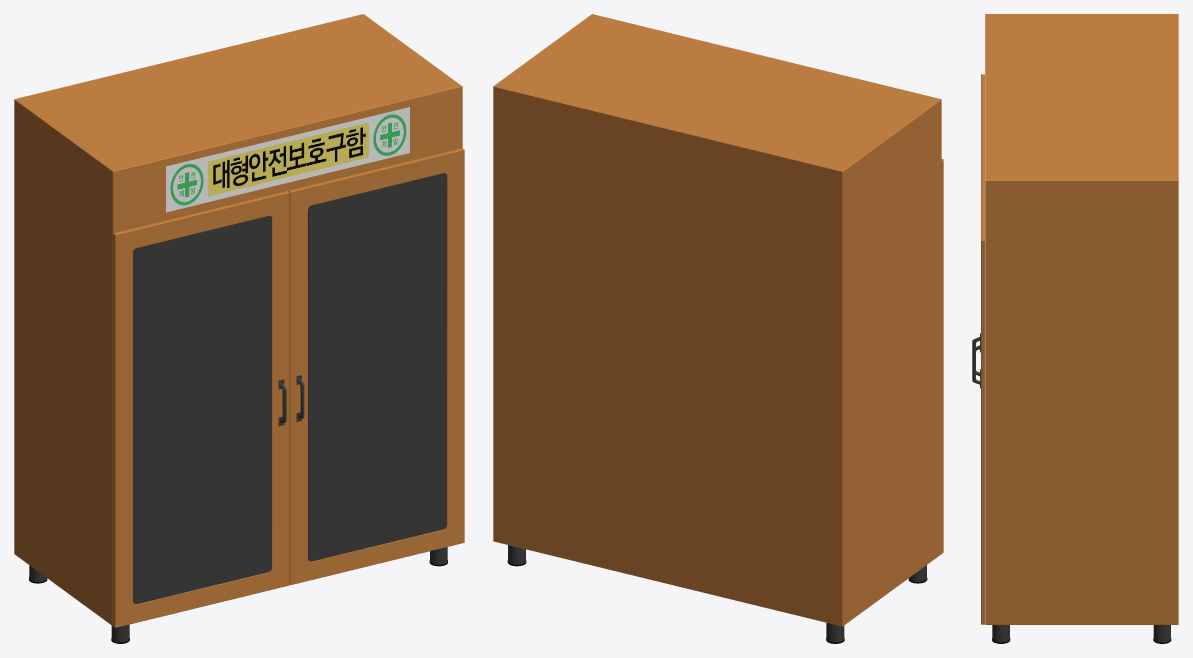
Rendered from Storage box.fbx.
3 renders of one model, left to right at view 1: azimuth 30°, elevation 25°; view 2: azimuth 150°, elevation 25°; view 3: azimuth 270°, elevation 25°, orthographic. The views are drawn at different scales.
Visible parts, largest first — view 1: Main, Door_R_Glass, Door_L_Glass, Door_L, Door_R, Label, Silver; view 2: Main, Door_L, Silver; view 3: Main, Door_R, Silver, Door_L.
Boxes of the visible parts, x1,y1,x2,y2 form: Main: (14, 14, 462, 625); Door_R_Glass: (308, 173, 446, 561); Door_L_Glass: (133, 216, 271, 604); Door_L: (113, 191, 289, 627); Door_R: (288, 148, 464, 585); Label: (166, 107, 409, 212); Silver: (29, 547, 447, 642); Main: (493, 14, 941, 626); Door_L: (941, 159, 943, 553); Silver: (508, 545, 926, 642); Main: (985, 14, 1178, 624); Door_R: (981, 157, 984, 624); Silver: (992, 625, 1170, 642); Door_L: (981, 74, 984, 157).
Bounding box in the file's own units: 185 × 242 × 96.84.
